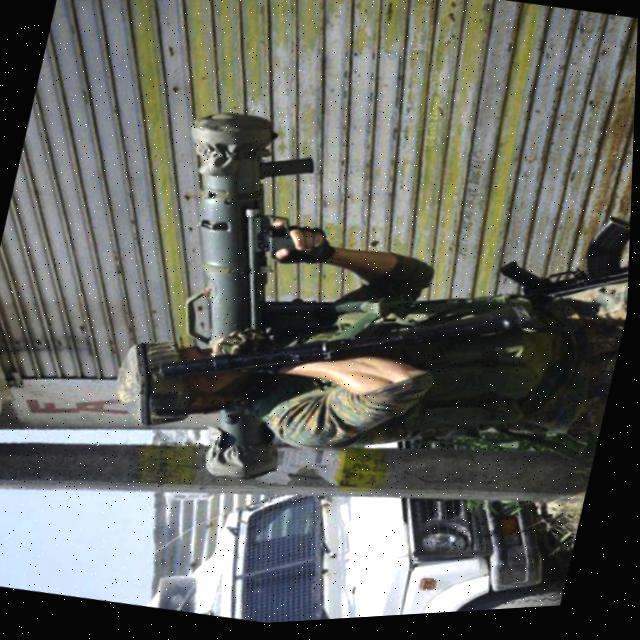rocket: (113, 92, 361, 507)
